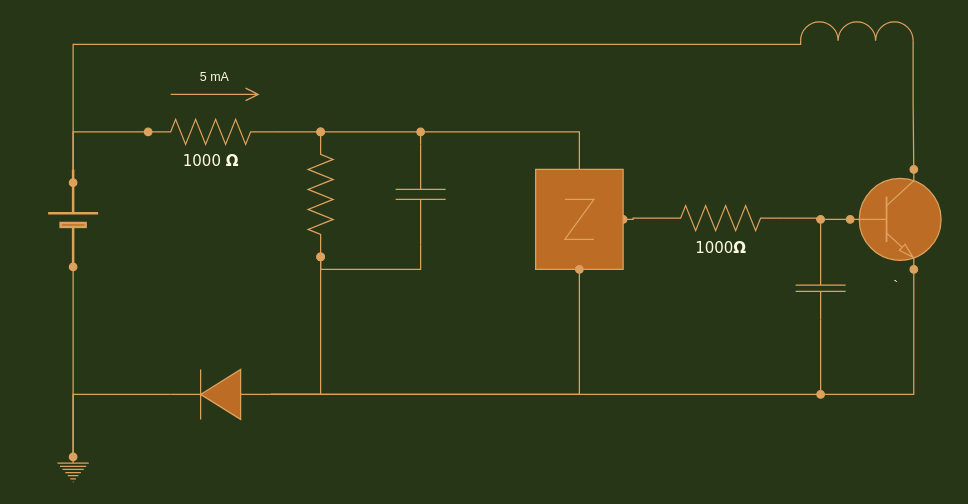
Image size: 968x504. Some labels were removed from this diagram. The shapes that lost their labels are listed below. From the top down, each one's box as (x1, y1, x2, y2) in pixels, then its label:
(307, 131, 333, 257): 2200 Ω
(46, 168, 99, 268): 9V
